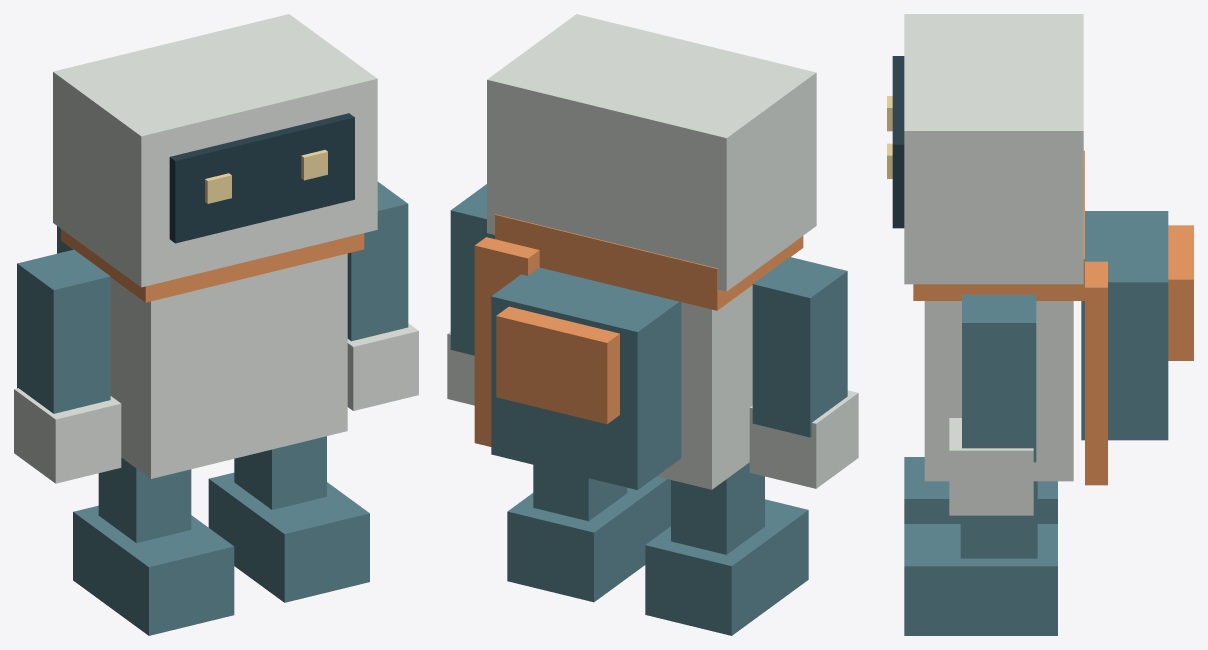
Rendered from demo-wind-courier.glb.
3 views of the same model, side by side, from view 1: azimuth 30°, elevation 25°; view 2: azimuth 150°, elevation 25°; view 3: azimuth 270°, elevation 25° (orthographic).
Visible parts, largest first — view 1: Head, Body, Boot (×2), Upper arm (×2), Visor, Hand (×2), Leg (×2), Scarf collar, Eye (×2); view 2: Head, Boot (×2), Courier backpack, Upper arm (×2), Body, Parcel, Scarf collar, Leg (×2), Hand (×2), Scarf tail; view 3: Head, Boot (×2), Courier backpack, Body, Upper arm, Hand, Scarf tail, Leg, Parcel, Scarf collar, Visor.
Part boxes in pixels (x1=…): Head: x1=53, y1=14, x2=377, y2=287; Body: x1=110, y1=253, x2=347, y2=478; Boot (×2): x1=73, y1=472, x2=369, y2=635; Upper arm (×2): x1=17, y1=182, x2=408, y2=413; Visor: x1=169, y1=113, x2=354, y2=243; Hand (×2): x1=14, y1=323, x2=418, y2=483; Leg (×2): x1=98, y1=436, x2=326, y2=542; Scarf collar: x1=61, y1=229, x2=364, y2=302; Eye (×2): x1=205, y1=150, x2=327, y2=203; Head: x1=487, y1=14, x2=816, y2=291; Boot (×2): x1=507, y1=476, x2=808, y2=635; Courier backpack: x1=491, y1=267, x2=681, y2=489; Upper arm (×2): x1=450, y1=184, x2=847, y2=437; Body: x1=657, y1=285, x2=752, y2=489; Parcel: x1=496, y1=306, x2=619, y2=424; Scarf collar: x1=495, y1=214, x2=803, y2=310; Leg (×2): x1=533, y1=462, x2=764, y2=554; Hand (×2): x1=447, y1=332, x2=858, y2=488; Scarf tail: x1=474, y1=237, x2=539, y2=446; Head: x1=904, y1=14, x2=1083, y2=284; Boot (×2): x1=904, y1=457, x2=1057, y2=635; Courier backpack: x1=1081, y1=211, x2=1168, y2=440; Body: x1=924, y1=301, x2=1073, y2=481; Upper arm: x1=962, y1=294, x2=1036, y2=462; Hand: x1=949, y1=418, x2=1033, y2=515; Scarf tail: x1=1085, y1=261, x2=1107, y2=485; Leg: x1=960, y1=481, x2=1037, y2=558; Parcel: x1=1168, y1=225, x2=1193, y2=360; Scarf collar: x1=913, y1=150, x2=1084, y2=300; Visor: x1=892, y1=56, x2=904, y2=228.
Bounding box in the file's own units: 1.66 × 2.19 × 1.2.
